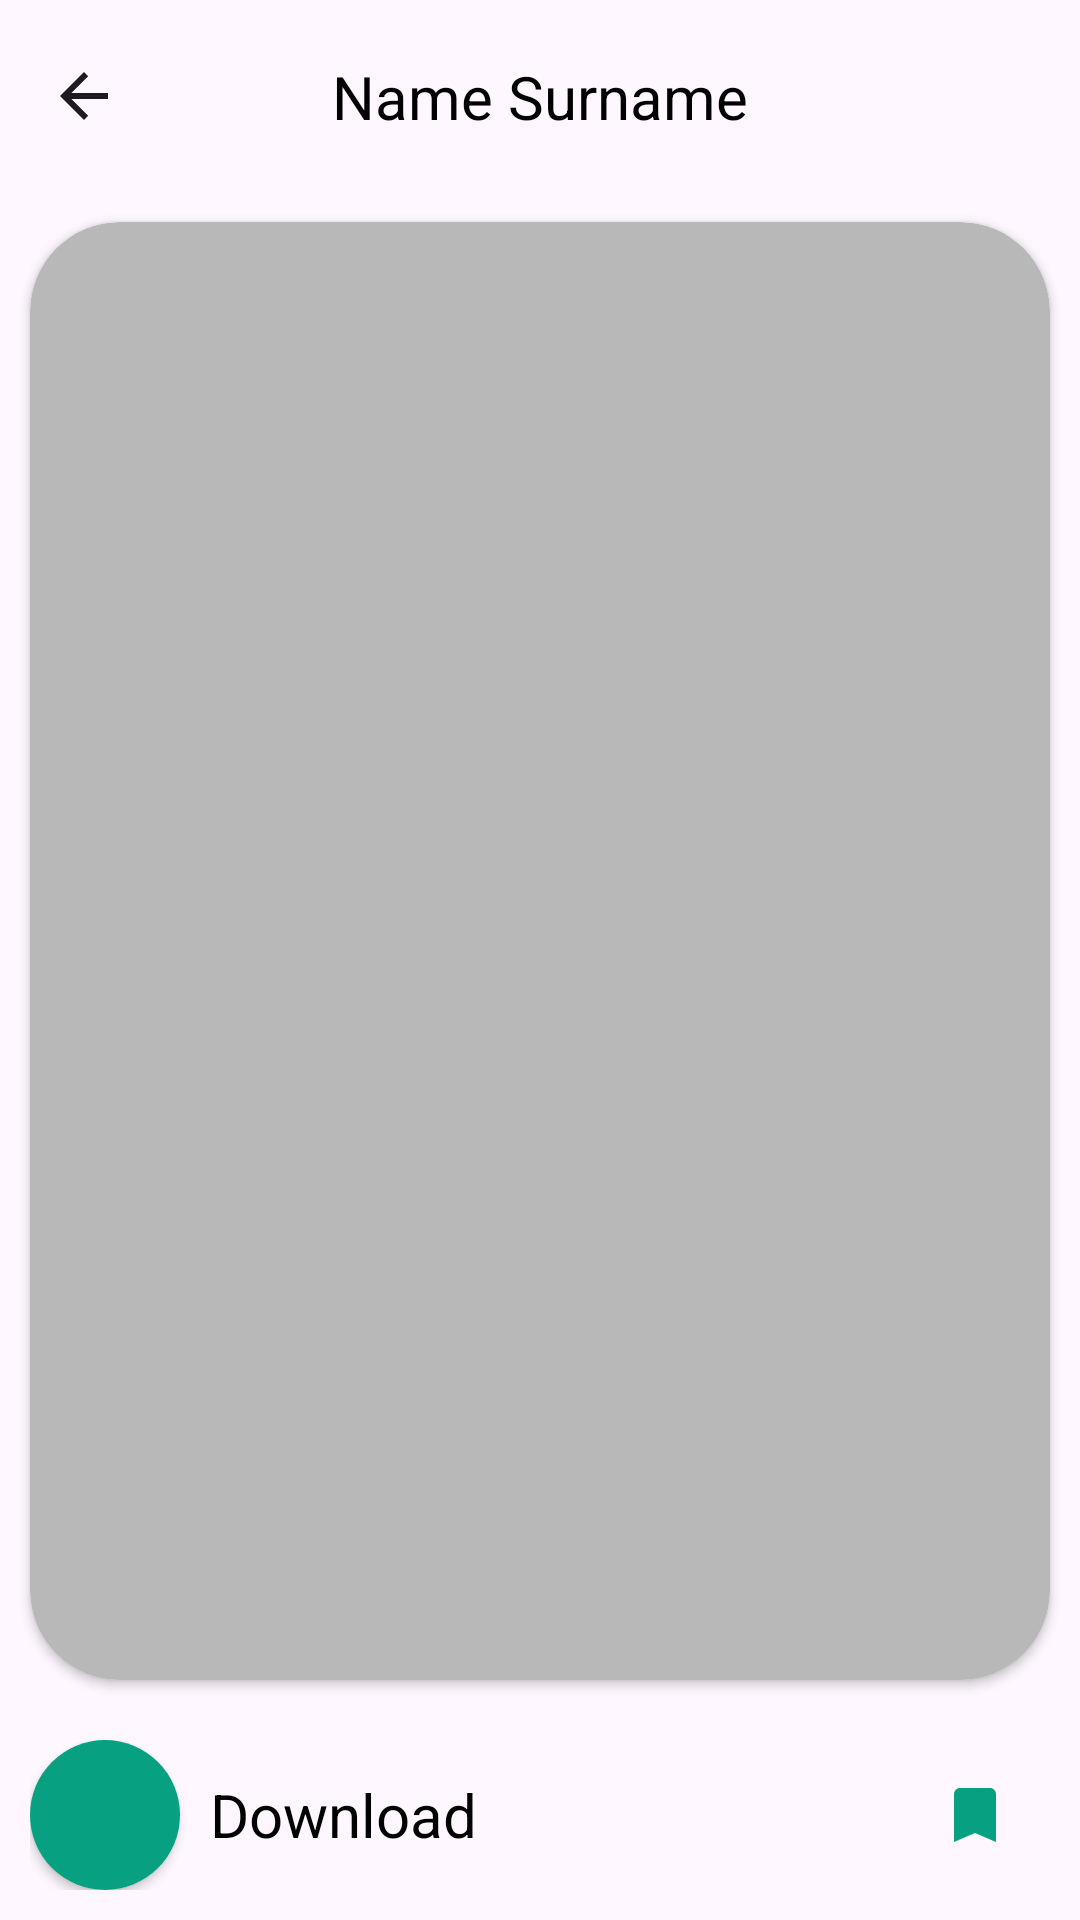

Named icons in this screenshot (1080px x 1920px) and their bounding boxes, rect(x1, y1, x2, y2):
bookmarks: rect(954, 1788, 996, 1842)
